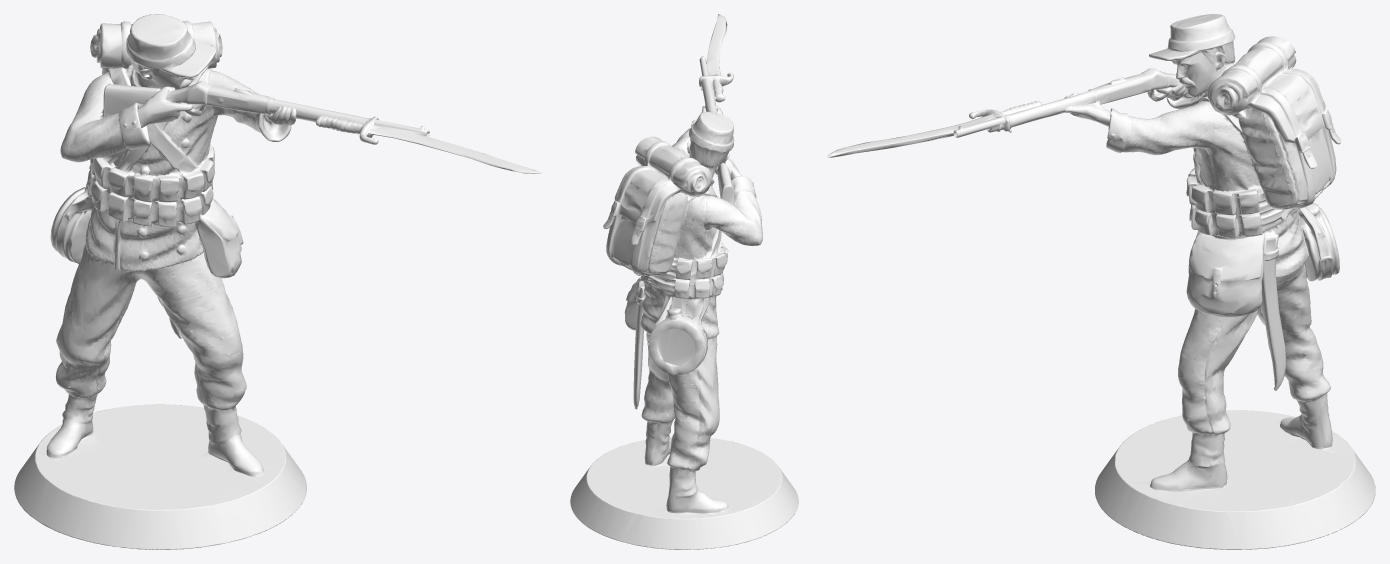
Rendered from Chilean Infantery_pose_apuntado_low.glb.
3 views of the same model, side by side, from view 1: azimuth 30°, elevation 25°; view 2: azimuth 150°, elevation 25°; view 3: azimuth 270°, elevation 25° (orthographic). The views are drawn at different scales.
Parts seen in each view (by area): view 1: Chilean Infantery_pose_apuntado_low; view 2: Chilean Infantery_pose_apuntado_low; view 3: Chilean Infantery_pose_apuntado_low.
Part boxes in pixels (x1,y1,x2,y2): Chilean Infantery_pose_apuntado_low: (14, 14, 541, 549); Chilean Infantery_pose_apuntado_low: (570, 14, 798, 549); Chilean Infantery_pose_apuntado_low: (827, 14, 1375, 549).
Size of the model in its own units: 54.67 by 85.62 by 91.32.
1 material, 1 textured.
